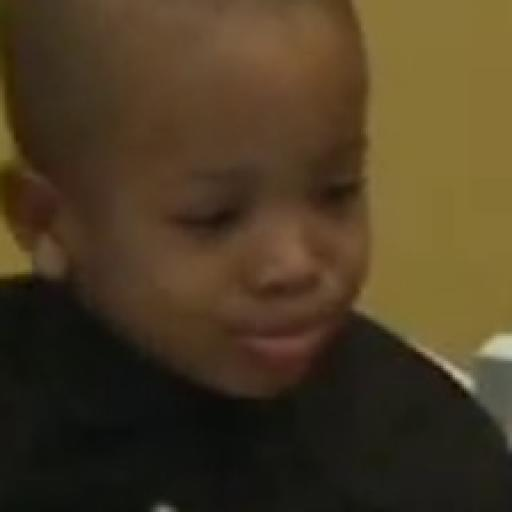Autism: (8, 10, 414, 395)
